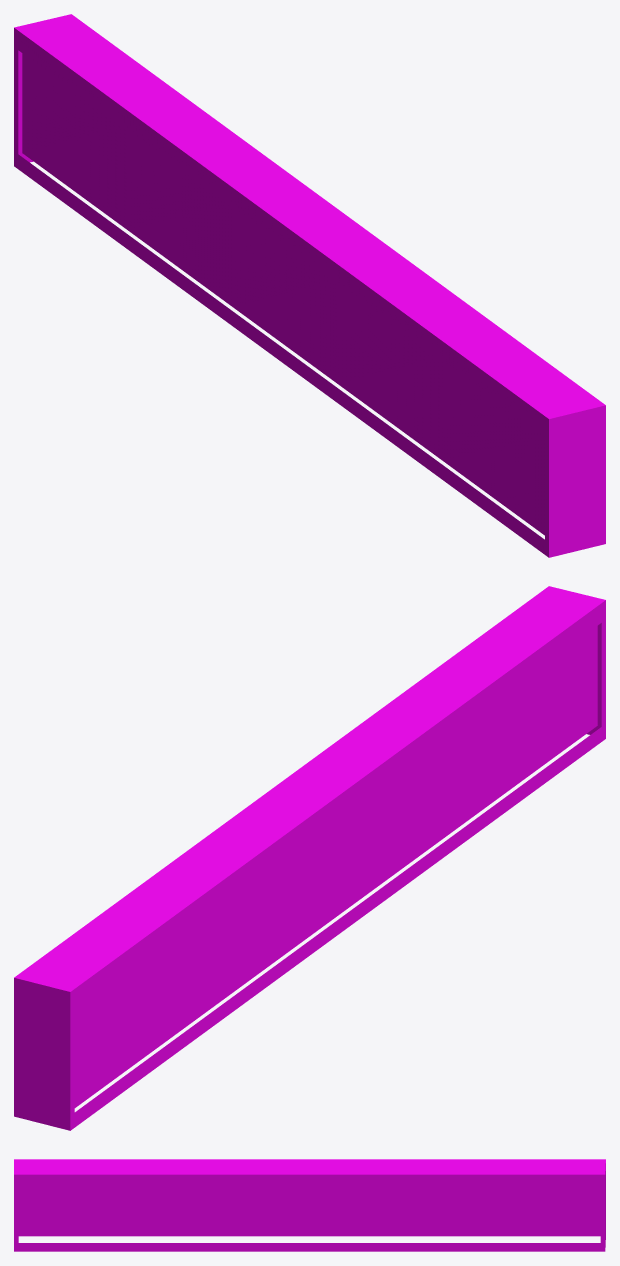
Rendered from cave wallgrill.obj.
The picture shows the model from 3 angles, top to bottom: view 1: azimuth 30°, elevation 25°; view 2: azimuth 150°, elevation 25°; view 3: azimuth 270°, elevation 25°; orthographic projection. The views are drawn at different scales.
Visible parts, largest first — view 1: cave wallgrill_back; view 2: cave wallgrill_back; view 3: cave wallgrill_back.
Part boxes in pixels (bbox=[...]): cave wallgrill_back: bbox=[14, 14, 605, 557]; cave wallgrill_back: bbox=[14, 586, 605, 1130]; cave wallgrill_back: bbox=[14, 1159, 605, 1251].
Bounding box in the file's own units: 0.55 × 1.28 × 8.95.
